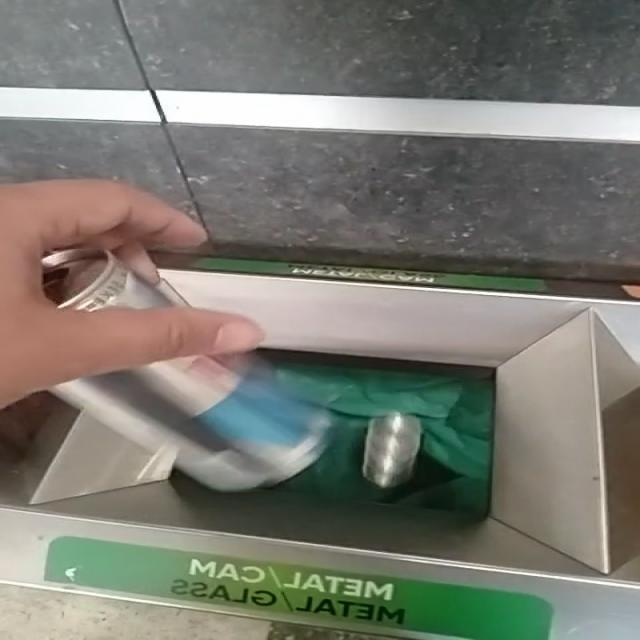Bin: (1, 259, 639, 640)
Metal: (49, 354, 331, 492), (40, 250, 193, 312), (363, 414, 420, 488)
